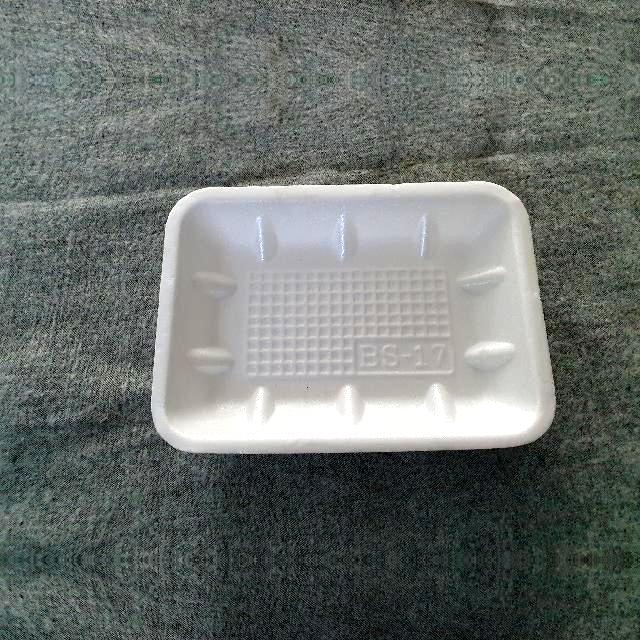Styrofoam: (150, 178, 558, 454), (151, 181, 557, 454)
